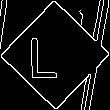L_N: (39, 30, 71, 80)
